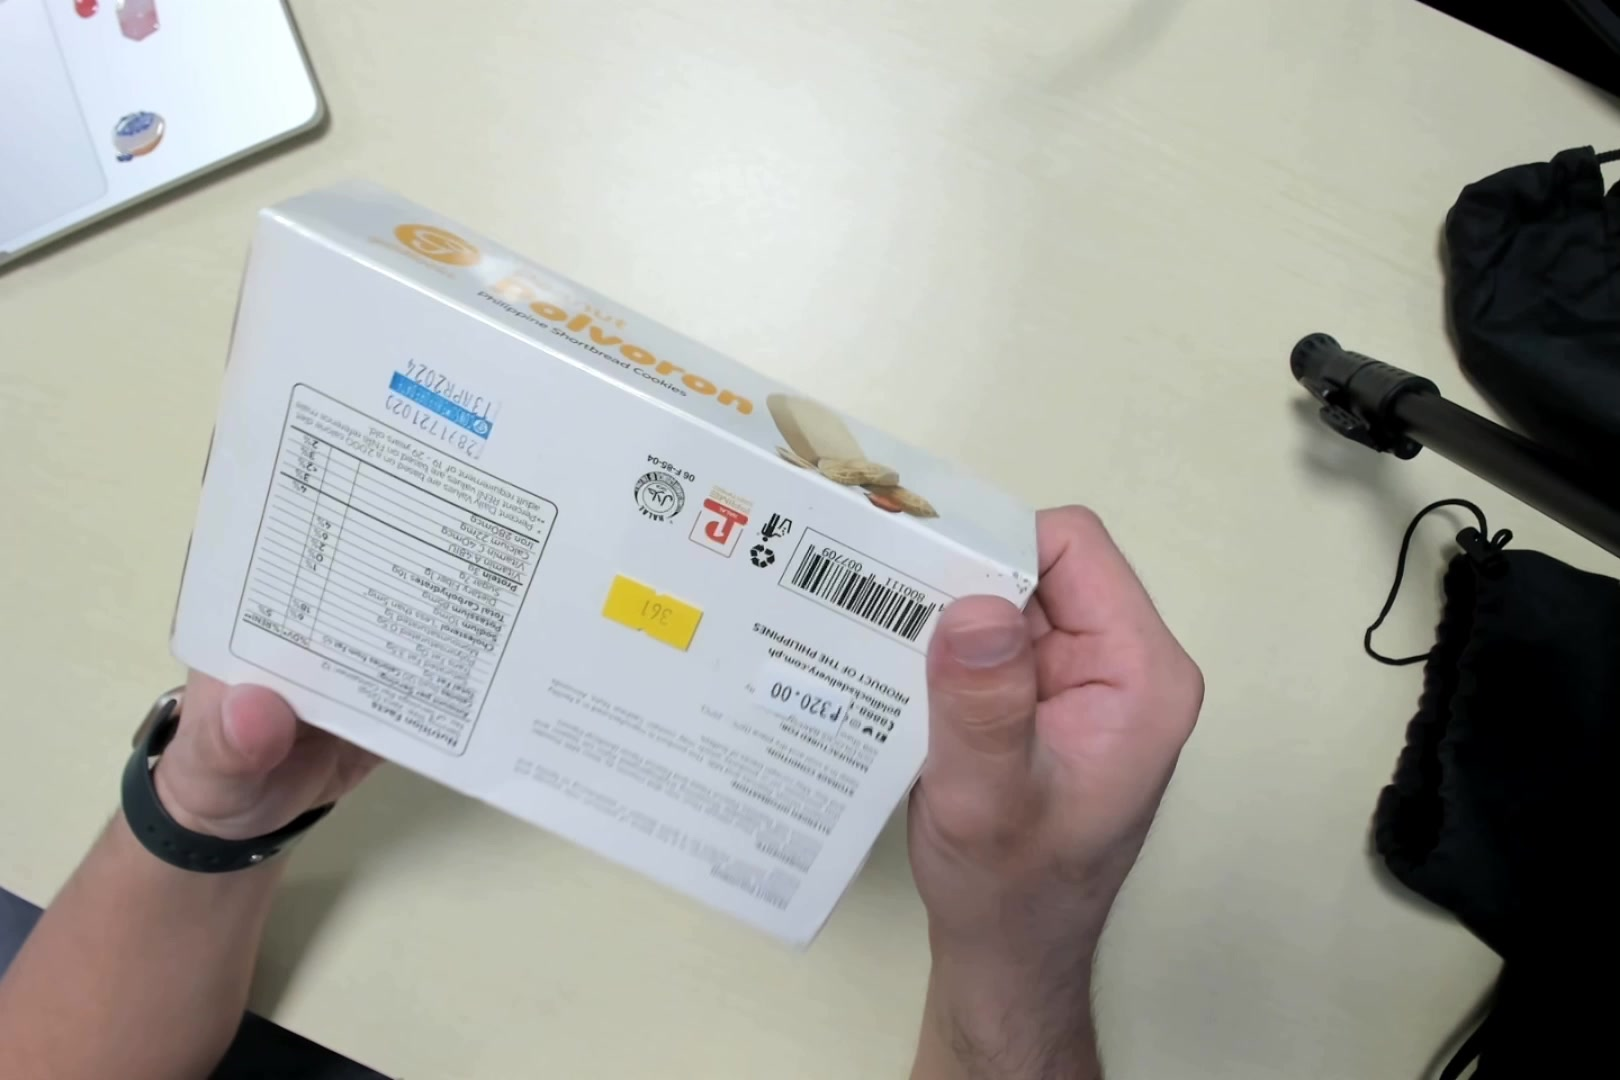SweetsChocolatesOthers_300-399g_Halal_NonHealthy: (180, 184, 1041, 937)
